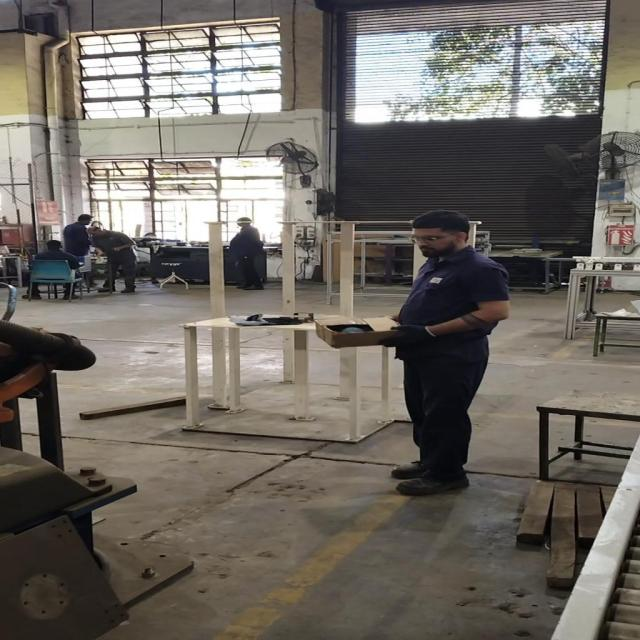Gloves-Detection: (388, 323, 432, 352)
